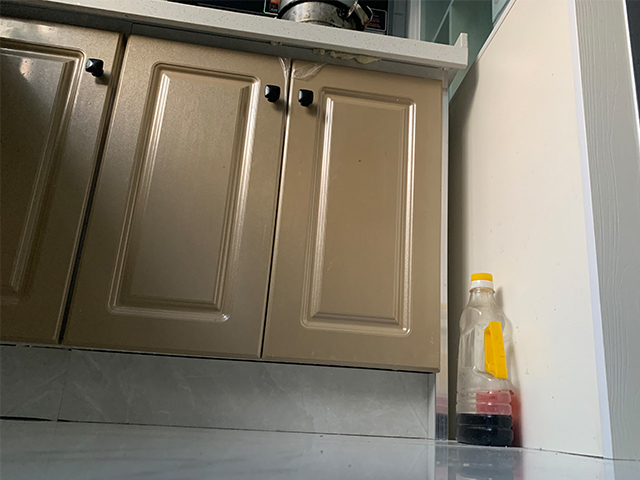cabinet: (1, 1, 468, 441)
